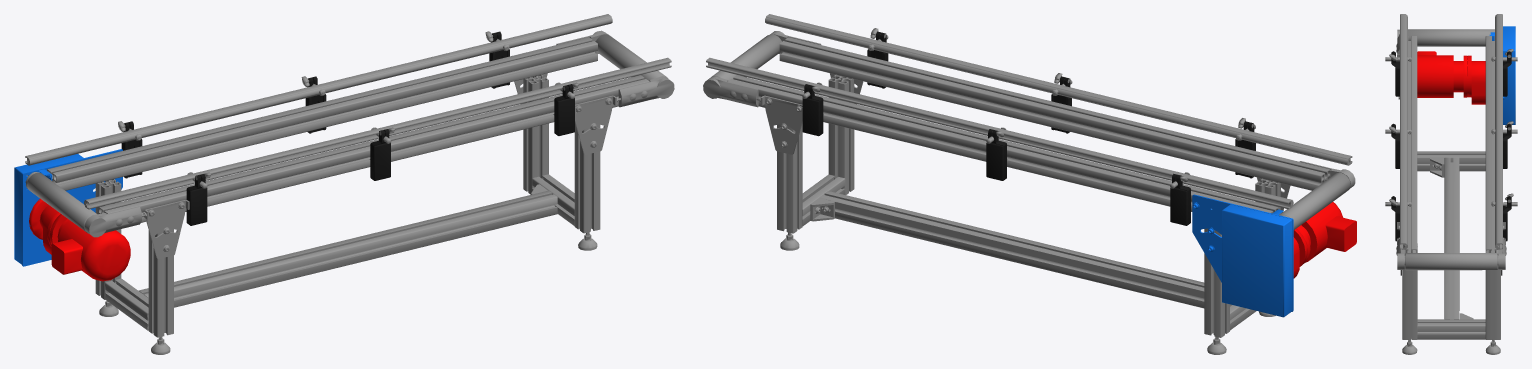
The model's file is convey4.FBX.
The picture shows the model from 3 angles, left to right: view 1: azimuth 30°, elevation 25°; view 2: azimuth 150°, elevation 25°; view 3: azimuth 270°, elevation 25°; orthographic projection. The views are drawn at different scales.
Parts seen in each view (by area): view 1: Base_006; view 2: Base_006; view 3: Base_006.
Boxes of the visible parts, x1=… form: Base_006: x1=14, y1=14, x2=674, y2=354; Base_006: x1=703, y1=14, x2=1356, y2=354; Base_006: x1=1385, y1=14, x2=1517, y2=354.
Bounding box in the file's own units: 333 × 94.56 × 79.09.
